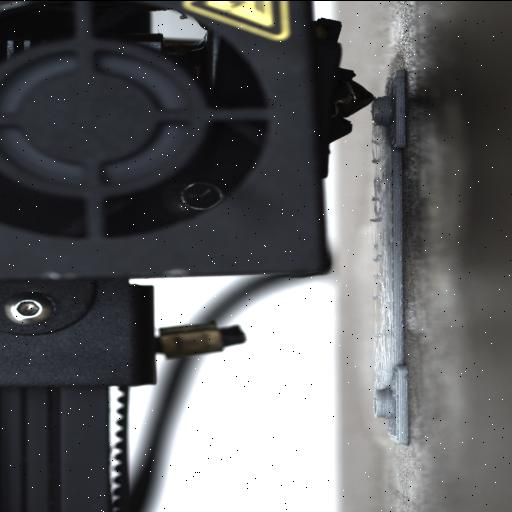stringing: (370, 260, 389, 358)
